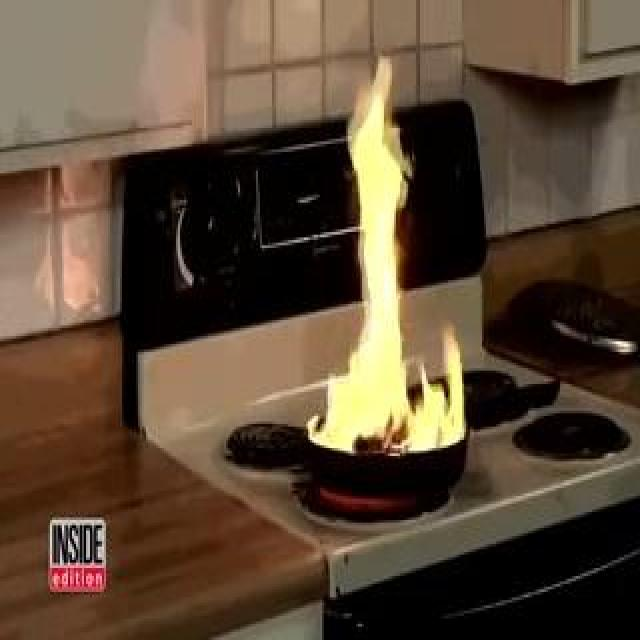Fire: (303, 20, 465, 465)
